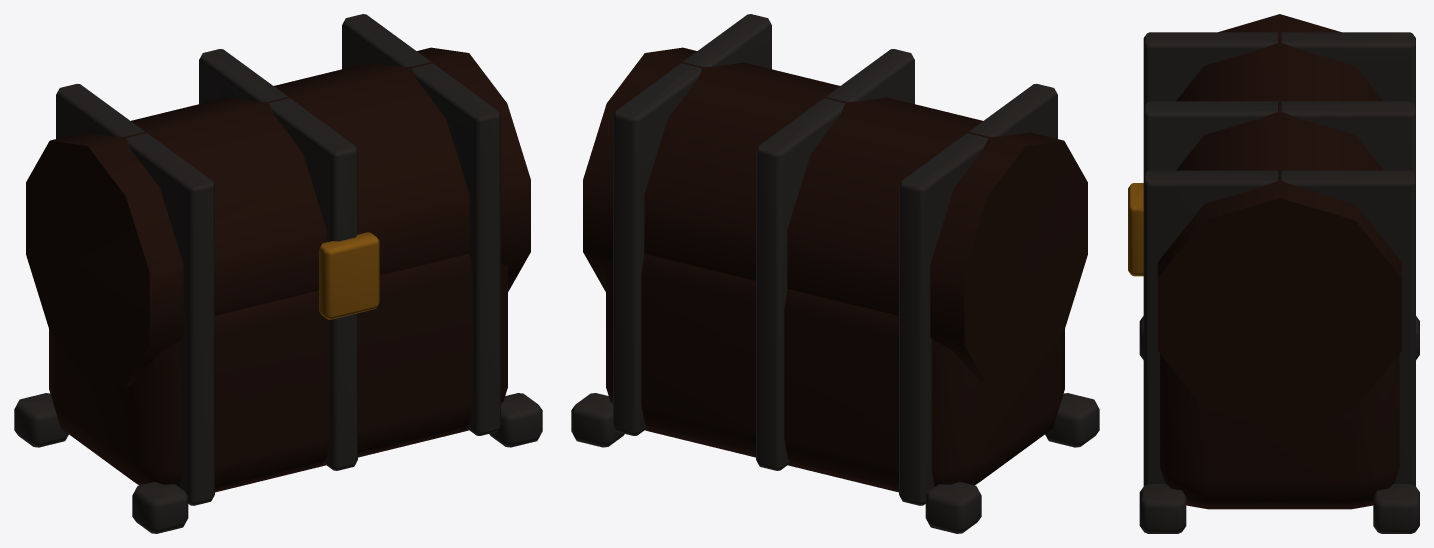
Rendered from BauGuardia.fbx.
3 renders of one model, left to right at view 1: azimuth 30°, elevation 25°; view 2: azimuth 150°, elevation 25°; view 3: azimuth 270°, elevation 25°, orthographic.
Parts seen in each view (by area): view 1: BauGuardia; view 2: BauGuardia; view 3: BauGuardia.
Boxes of the visible parts, x1,y1,x2,y2 form: BauGuardia: [14, 14, 542, 533]; BauGuardia: [571, 14, 1099, 533]; BauGuardia: [1128, 14, 1419, 533].
Bounding box in the file's own units: 1.16 × 0.9481 × 0.75.
